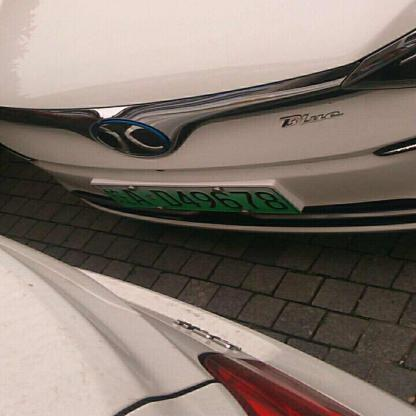lp: (94, 185, 299, 211)
